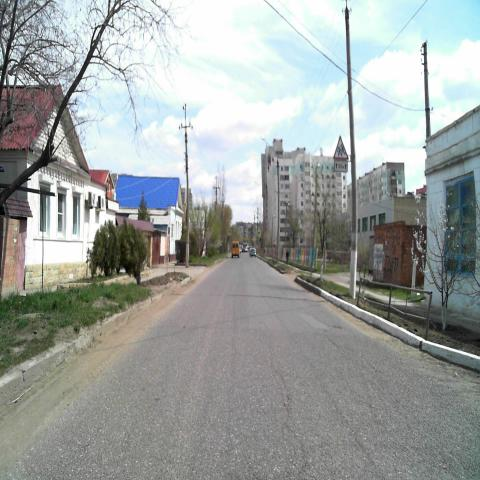1_23: (332, 135, 348, 158)
